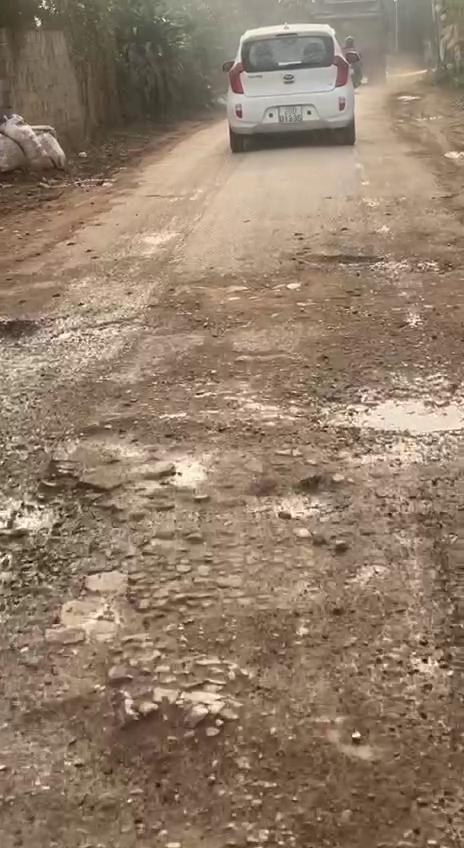pothole: (0, 435, 256, 837), (314, 373, 464, 443), (304, 248, 459, 280)
